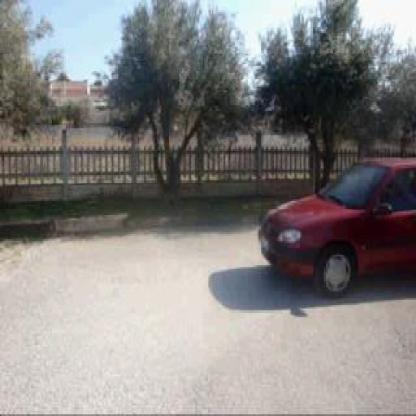other: (254, 150, 406, 300)
